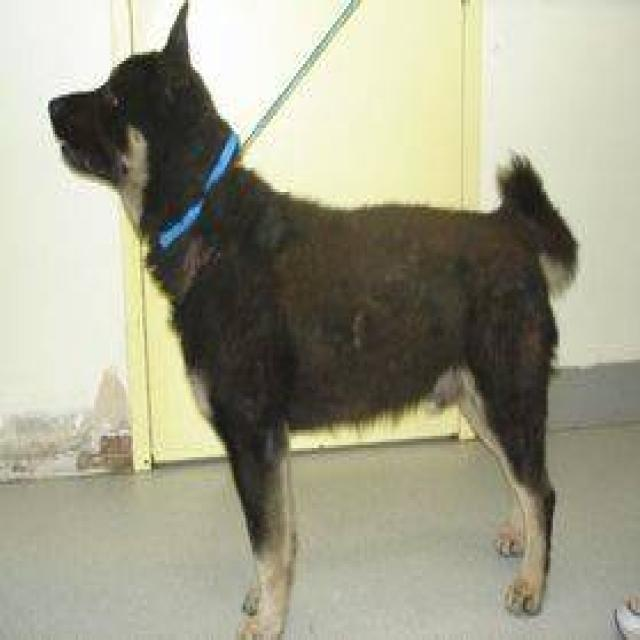dog: (46, 0, 578, 637)
